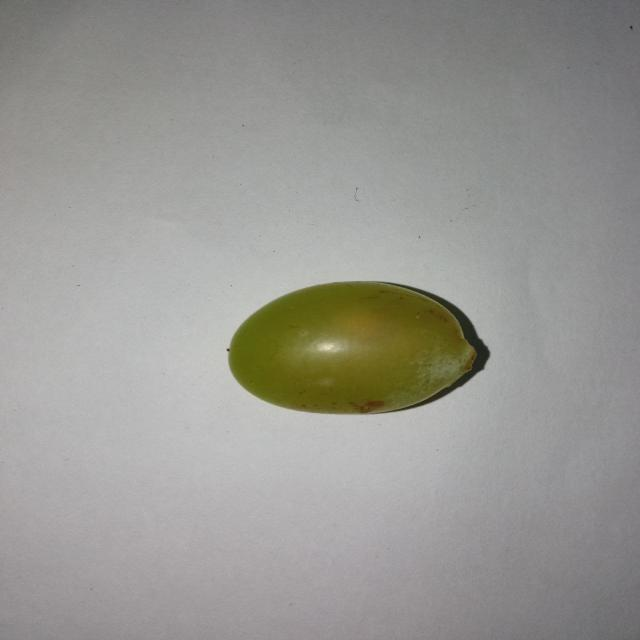fresh_grape: (224, 279, 476, 413)
